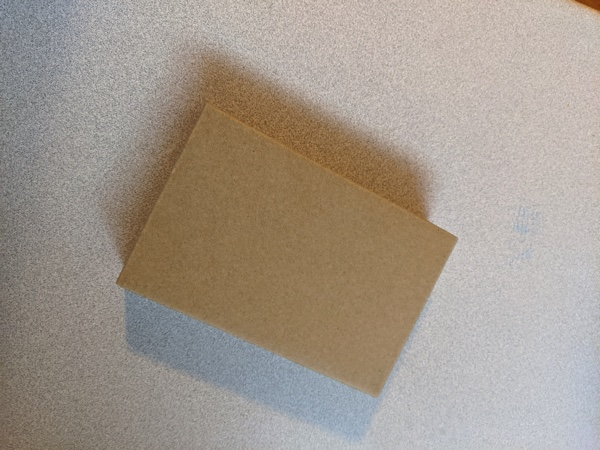cardboard: (94, 92, 467, 406)
